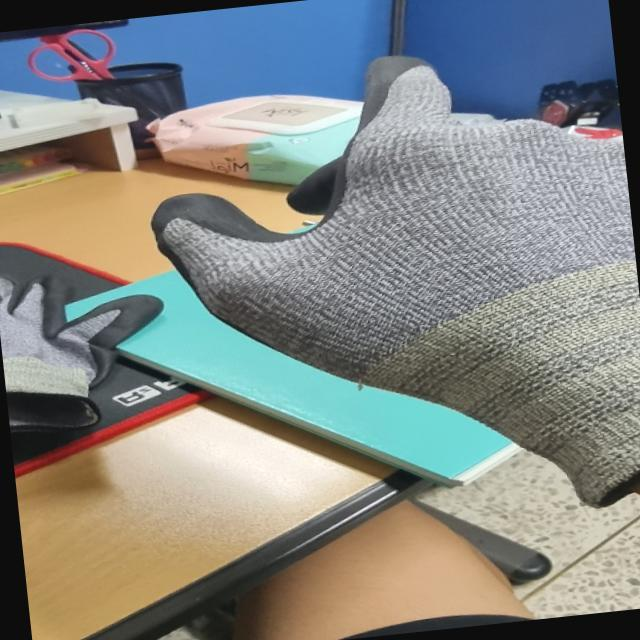Gloves: (155, 68, 640, 478), (0, 270, 145, 433)
